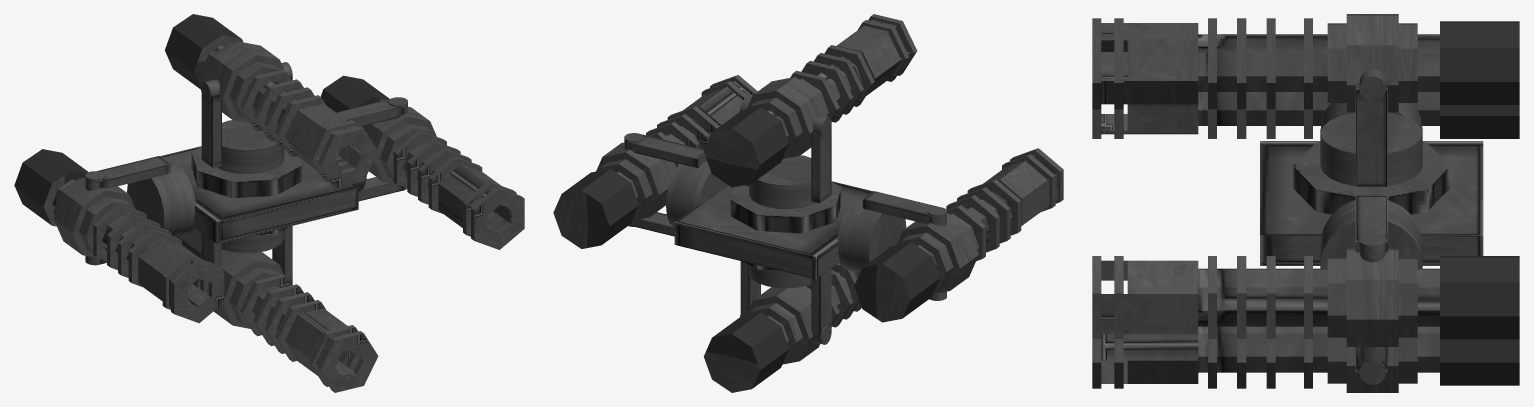
Rendered from Turret2.fbx.
The picture shows the model from 3 angles, left to right: view 1: azimuth 30°, elevation 25°; view 2: azimuth 150°, elevation 25°; view 3: azimuth 270°, elevation 25°; orthographic projection. The views are drawn at different scales.
Parts seen in each view (by area): view 1: top_of_turret, top_of_turret003, top_of_turret002, top_of_turret001, base_of_turret001, middle_of_turret003, base_of_turret, middle_of_turret, middle_of_turret001, middle_of_turret002; view 2: top_of_turret, top_of_turret003, top_of_turret002, top_of_turret001, base_of_turret, base_of_turret001, middle_of_turret003, middle_of_turret002, middle_of_turret, middle_of_turret001; view 3: top_of_turret002, top_of_turret, top_of_turret001, base_of_turret001, top_of_turret003, middle_of_turret, base_of_turret, middle_of_turret002, middle_of_turret003.
Part boxes in pixels (box(x1,y1,x2,y2)): top_of_turret: box(165, 14, 378, 187); top_of_turret003: box(14, 149, 224, 323); top_of_turret002: box(320, 75, 524, 249); top_of_turret001: box(176, 227, 378, 392); base_of_turret001: box(160, 146, 358, 241); middle_of_turret003: box(96, 156, 195, 264); base_of_turret: box(191, 147, 358, 243); middle_of_turret: box(201, 75, 292, 173); middle_of_turret001: box(201, 226, 292, 284); middle_of_turret002: box(336, 100, 404, 201); top_of_turret: box(703, 14, 917, 187); top_of_turret003: box(854, 148, 1063, 322); top_of_turret002: box(553, 75, 757, 248); top_of_turret001: box(703, 262, 861, 392); base_of_turret: box(674, 182, 841, 279); base_of_turret001: box(674, 181, 873, 273); middle_of_turret003: box(837, 191, 938, 299); middle_of_turret002: box(628, 134, 727, 236); middle_of_turret: box(745, 122, 831, 209); middle_of_turret001: box(740, 261, 831, 339); top_of_turret002: box(1092, 234, 1519, 362); top_of_turret: box(1092, 14, 1519, 112); top_of_turret001: box(1092, 326, 1519, 392); base_of_turret001: box(1260, 141, 1483, 262); top_of_turret003: box(1092, 92, 1519, 138); middle_of_turret: box(1320, 82, 1422, 187); base_of_turret: box(1260, 141, 1449, 265); middle_of_turret002: box(1320, 195, 1422, 355); middle_of_turret003: box(1320, 103, 1422, 132).
Bounding box in the file's own units: 1.36 × 0.9737 × 1.
10 materials, 10 textured.
